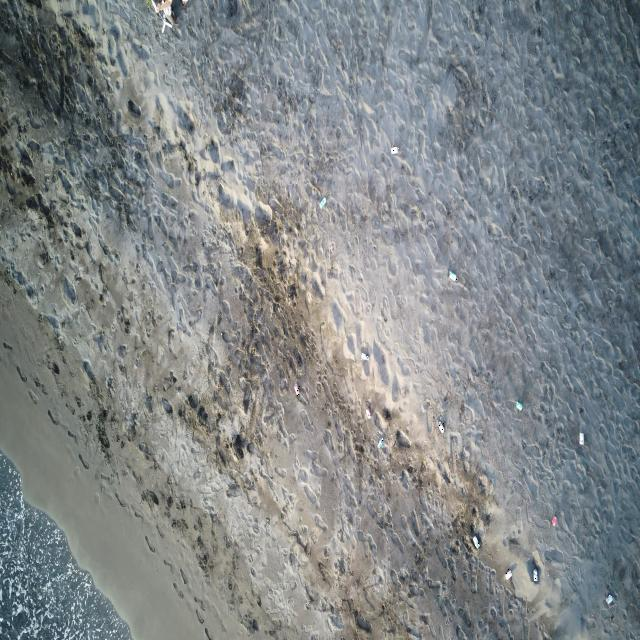tin-and-aluminum-cans: (318, 196, 328, 209), (473, 534, 480, 548), (438, 421, 445, 434), (294, 383, 300, 397), (365, 408, 372, 420), (449, 271, 457, 281), (361, 352, 369, 362), (580, 433, 586, 446), (533, 568, 538, 582), (392, 145, 399, 155), (606, 594, 612, 605), (506, 569, 512, 580), (377, 438, 383, 449), (551, 516, 557, 526), (516, 402, 522, 411)
